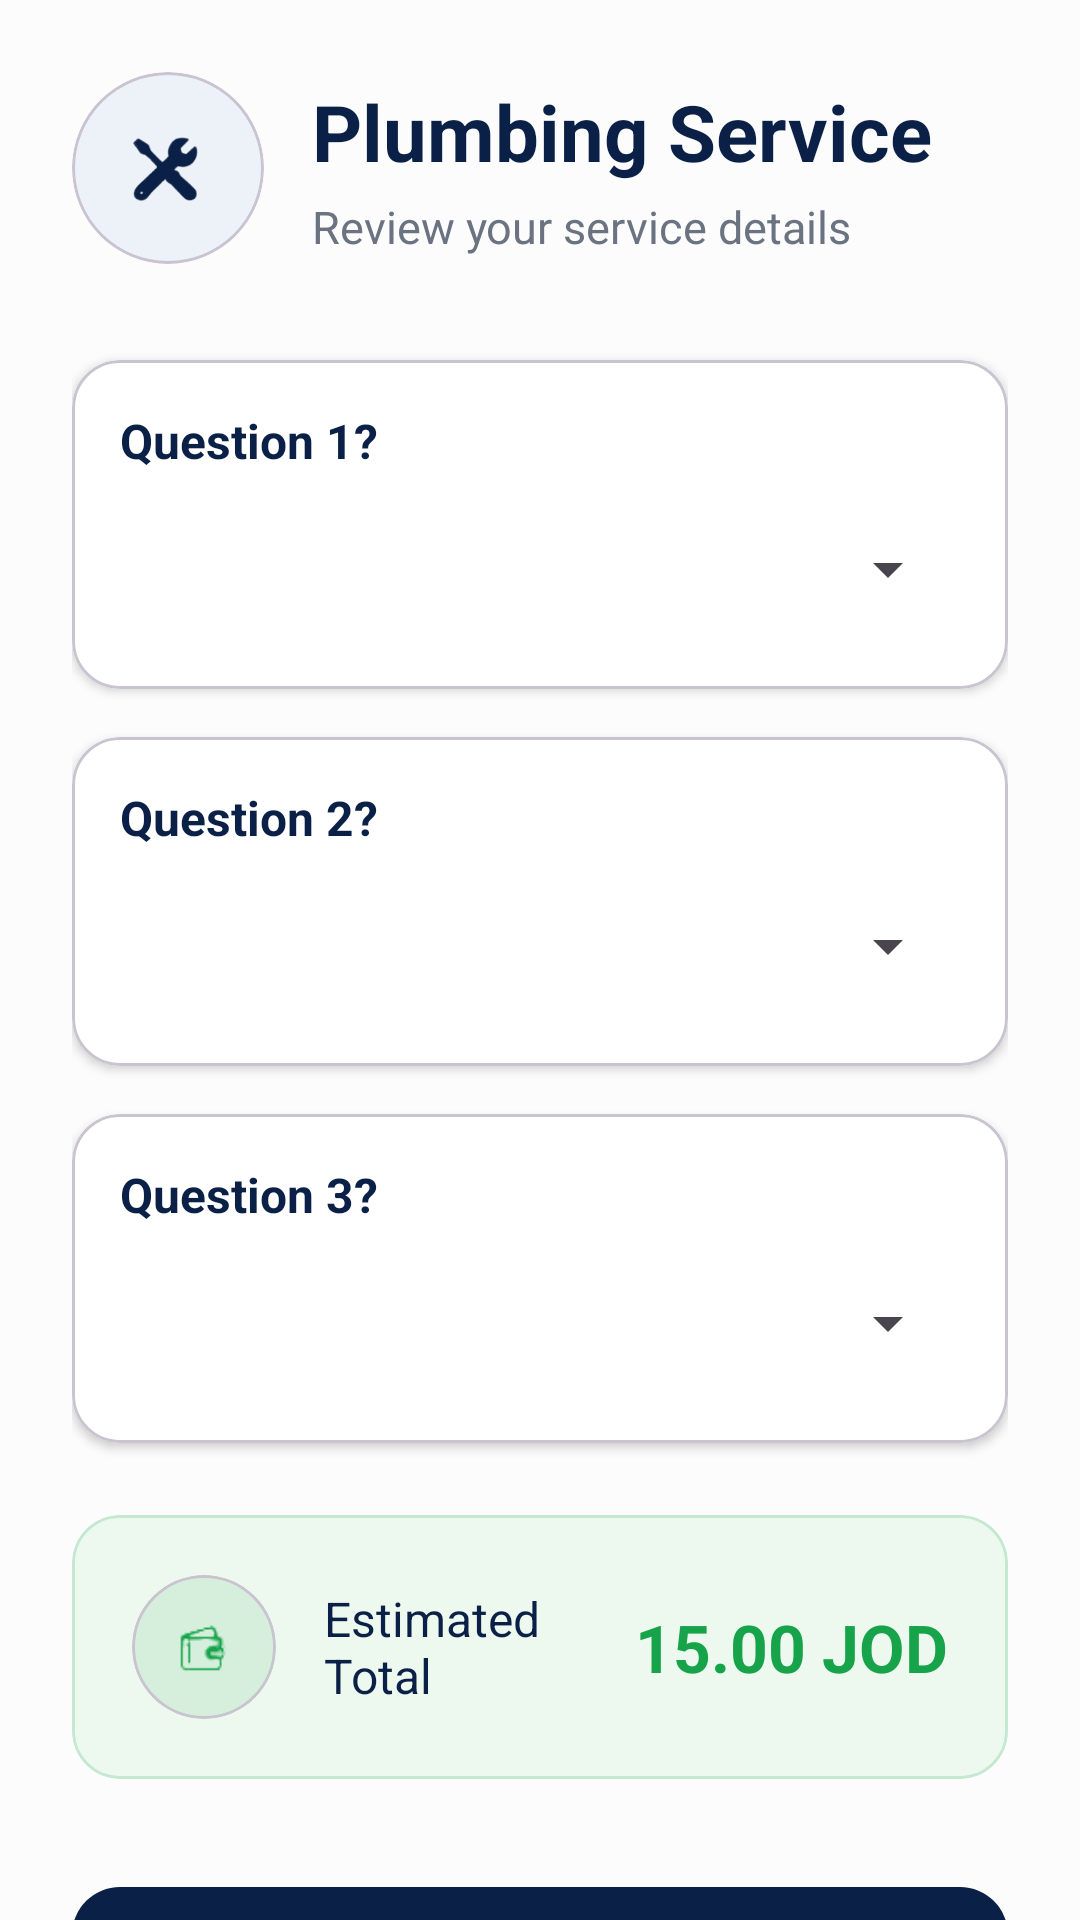

Named icons in this screenshot (1080px×1920px) and their centers, (x=x, y=y):
wallet: (x=202, y=1648)
